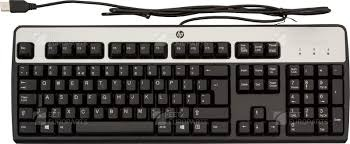keyboard: (3, 7, 346, 144)
